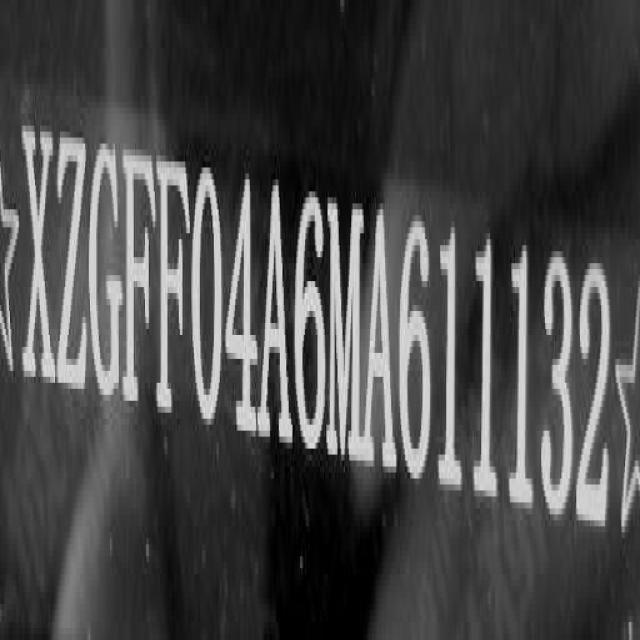0: (194, 157, 225, 440)
1: (471, 228, 499, 517), (508, 233, 534, 524), (438, 216, 463, 505)
2: (580, 257, 614, 543)
3: (543, 244, 576, 534)
4: (225, 160, 256, 444)
6: (399, 211, 434, 494), (296, 177, 328, 465)
A: (261, 171, 292, 457), (365, 198, 394, 484)
F: (125, 142, 156, 425), (159, 146, 188, 432)
G: (92, 130, 121, 413)
M: (329, 186, 361, 474)
X: (23, 112, 54, 398)
Z: (58, 127, 88, 410)
